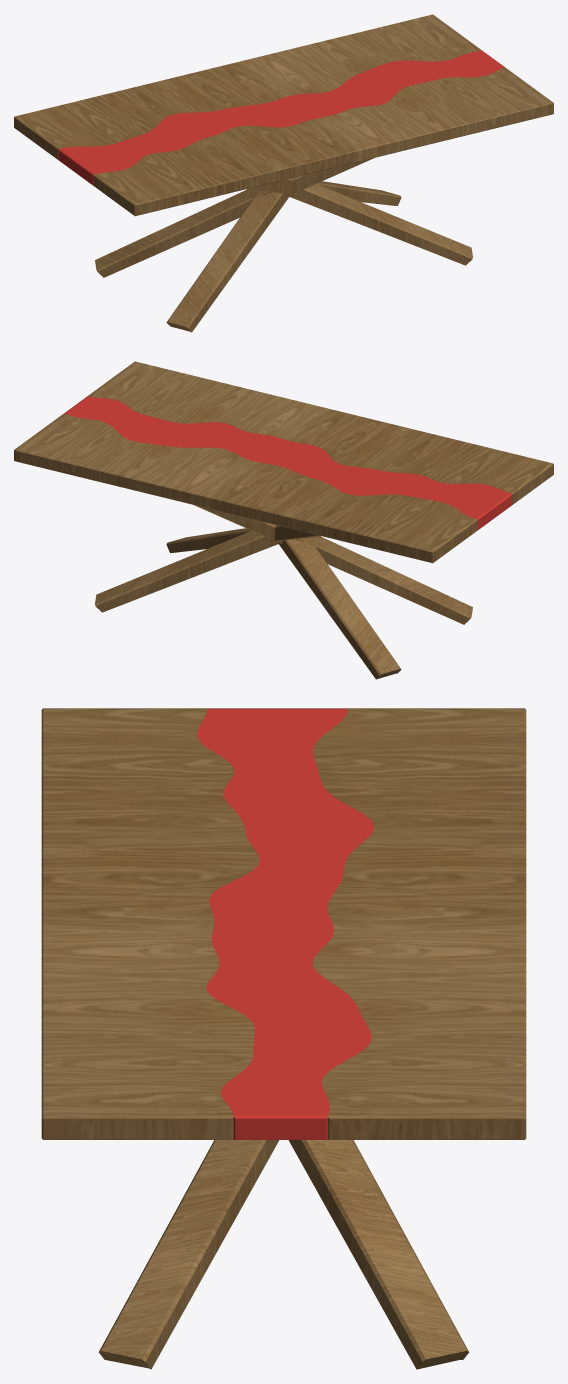
Rendered from rectangular-oak-epoxy-crimson.glb.
3 renders of one model, top to bottom at view 1: azimuth 30°, elevation 25°; view 2: azimuth 150°, elevation 25°; view 3: azimuth 270°, elevation 25°, orthographic. The views are drawn at different scales.
Visible parts, largest first — view 1: Wood_Rectangular_EpoxyFar, Wood_Rectangular_EpoxyNear, Base_target, Resin_Rectangular; view 2: Wood_Rectangular_EpoxyNear, Wood_Rectangular_EpoxyFar, Base_target, Resin_Rectangular; view 3: Wood_Rectangular_EpoxyNear, Wood_Rectangular_EpoxyFar, Resin_Rectangular, Base_target.
Boxes of the visible parts, <box> form: Wood_Rectangular_EpoxyFar: <box>93,67,553,216</box>; Wood_Rectangular_EpoxyNear: <box>14,14,481,159</box>; Base_target: <box>95,158,472,332</box>; Resin_Rectangular: <box>58,50,504,185</box>; Wood_Rectangular_EpoxyNear: <box>14,413,477,563</box>; Wood_Rectangular_EpoxyFar: <box>88,361,553,504</box>; Base_target: <box>95,505,472,679</box>; Resin_Rectangular: <box>64,396,512,529</box>; Wood_Rectangular_EpoxyNear: <box>312,708,526,1139</box>; Wood_Rectangular_EpoxyFar: <box>41,708,259,1139</box>; Resin_Rectangular: <box>197,708,374,1139</box>; Base_target: <box>98,1140,469,1369</box>.
Bounding box in the file's own units: 2.13 × 0.762 × 1.07.
2 materials, 1 textured.
